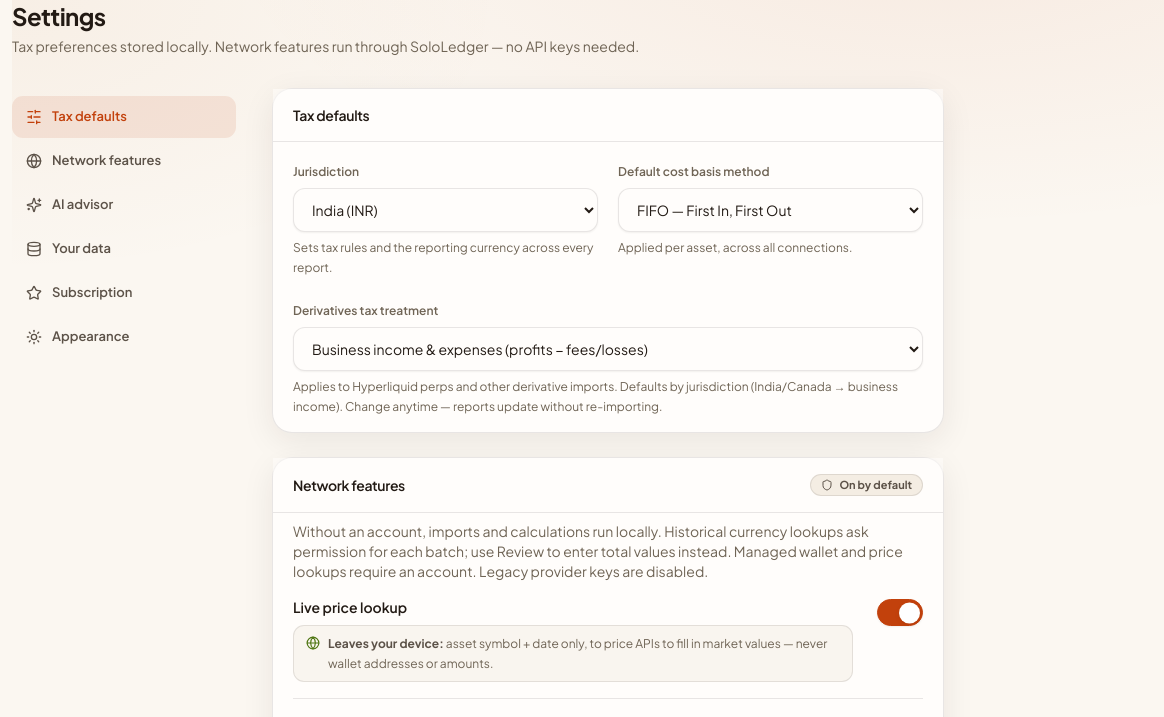
SettingsTab — Network features (hosted first-run defaults) › turning a lookup off persists the explicit opt-out and never snaps back on
Click the checkbox labelled "Live price lookup".
click(900, 612)  # box [877, 599, 923, 626]
(page scrolled)
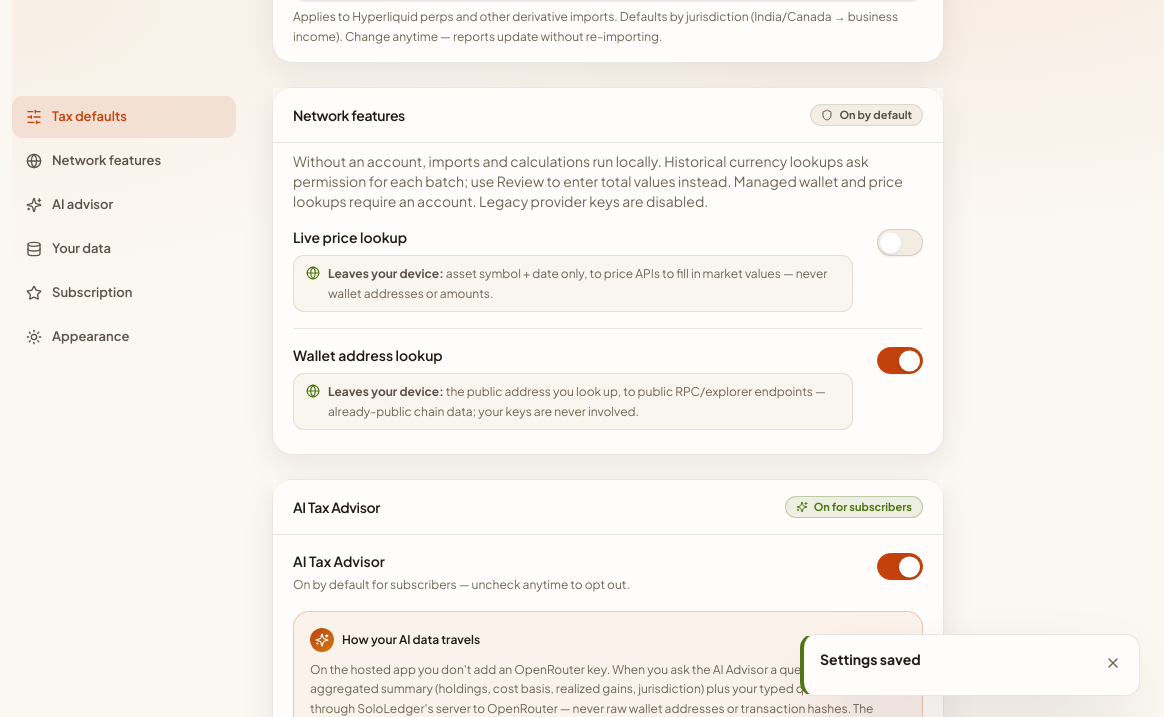
Expected: the checkbox labelled "Wallet address lookup" is checked, [877, 347, 923, 374]
Now the checkbox labelled "Live price lookup" is not checked, box [877, 229, 923, 256]
Now the text "Settings saved" is shown, box [820, 650, 921, 668]
